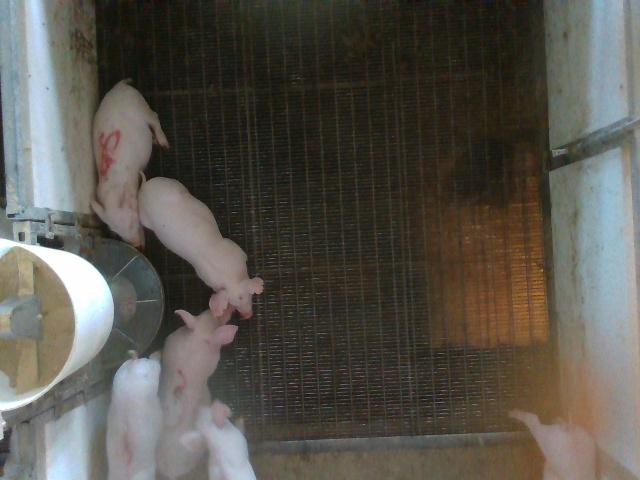pig-1: (106, 352, 162, 479)
pig-3: (156, 309, 238, 478)
pig-5: (91, 80, 169, 247)
